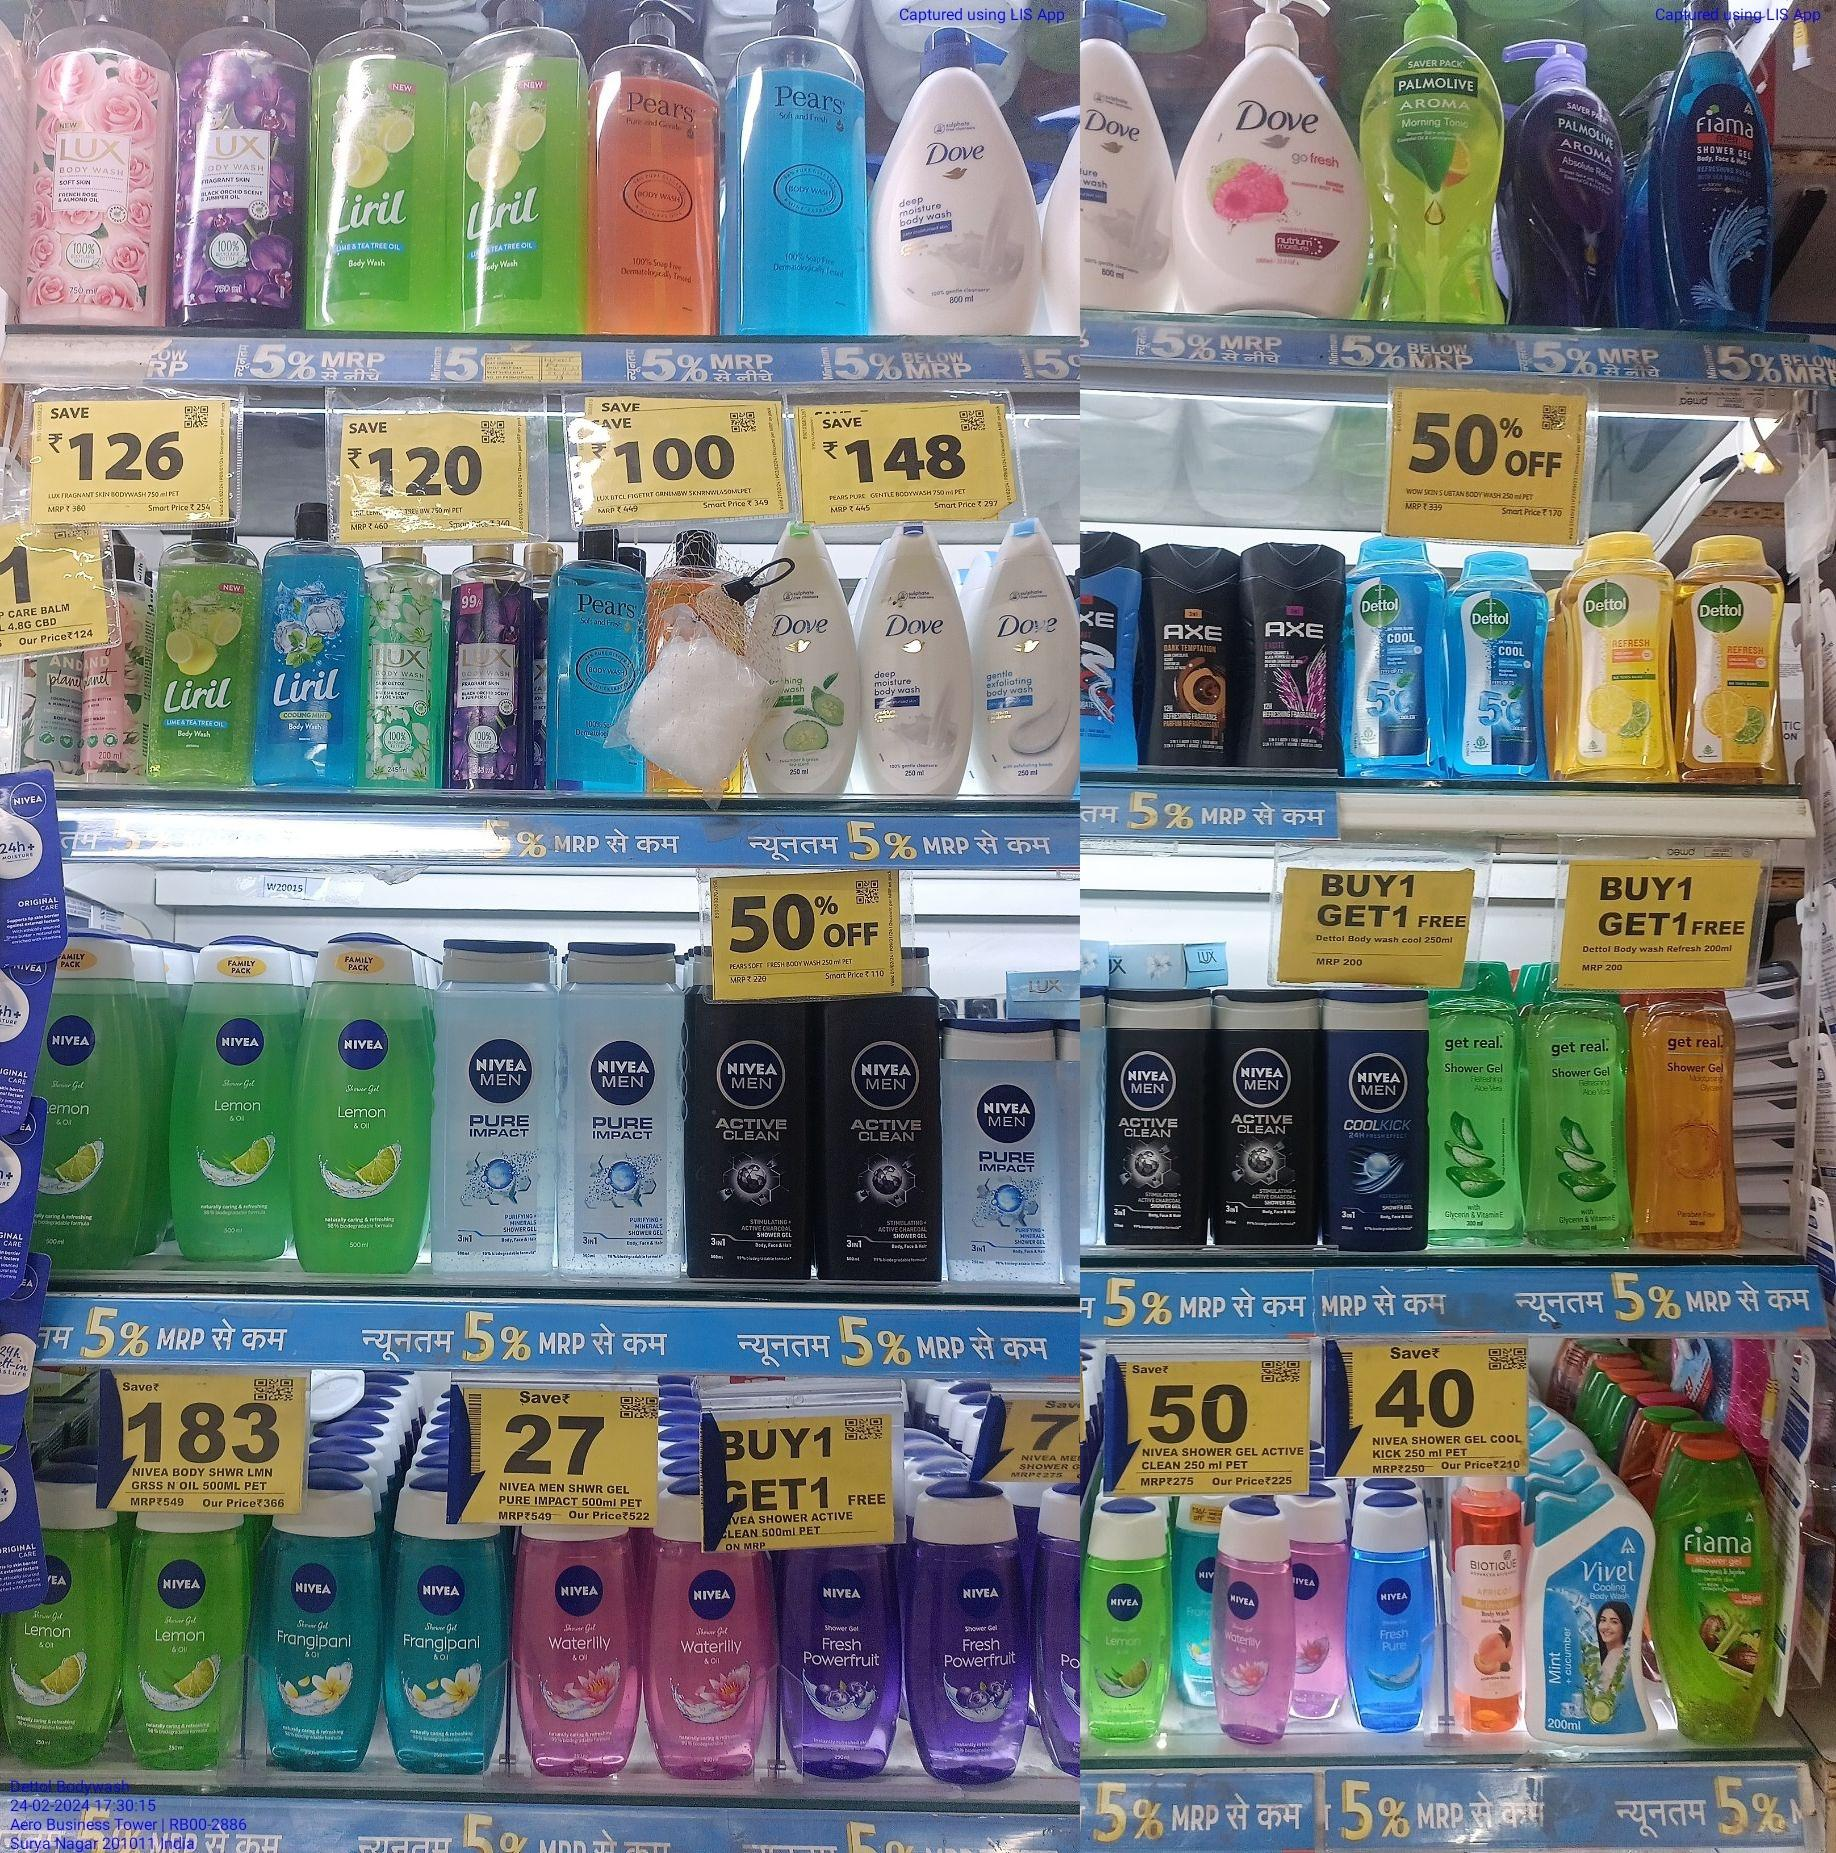Dettol_Bodywash_Cool: (1343, 538, 1446, 775), (1448, 553, 1548, 782)
Dettol_Bodywash_Refresh: (1569, 530, 1675, 782), (1680, 535, 1784, 784)
Dove_Deep_Moisture_Body_Wash_250ML: (863, 526, 972, 795)
Dove_Gentle_Exfoliating_Body_Wash_250ML: (979, 521, 1081, 797)
Dove_Refreshing_Body_Wash_250ML: (752, 523, 859, 794)
Get_Real_Shower_Gel_Moisturising_Glycerin_300ML: (1638, 994, 1742, 1244)
Liril_Cooling_Mint_Body_Wash_250ML: (267, 506, 365, 775)
Lux_Black_Orchid_Scent_and_Juniper_Oil_Body_Wash_245ML: (451, 550, 525, 787)
Lux_Body_Wash_Skin_Detox_Freesia_Scent_and_Alove_Vera_245ML: (373, 540, 444, 792)
Nivea_Shower_Gel_Frangipani_and_Oil_250ML: (383, 1486, 506, 1776), (266, 1493, 375, 1774)
Nivea_Shower_Gel_Fresh_Powerfruit_250ML: (916, 1493, 1029, 1781), (785, 1550, 900, 1779)
Nivea_Shower_Gel_Lemon_and_Oil_250ML: (304, 933, 432, 1285), (171, 942, 291, 1261), (40, 932, 141, 1264), (3, 1471, 111, 1767), (129, 1502, 245, 1769)
Nivea_Shower_Gel_Waterlily_and_Oil_250ML: (644, 1495, 775, 1769), (518, 1527, 636, 1779)
